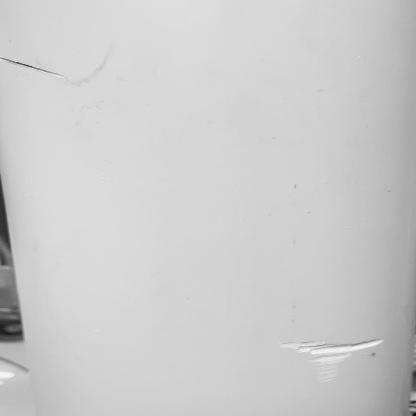sunshang: (271, 332, 397, 388), (1, 47, 76, 83)
